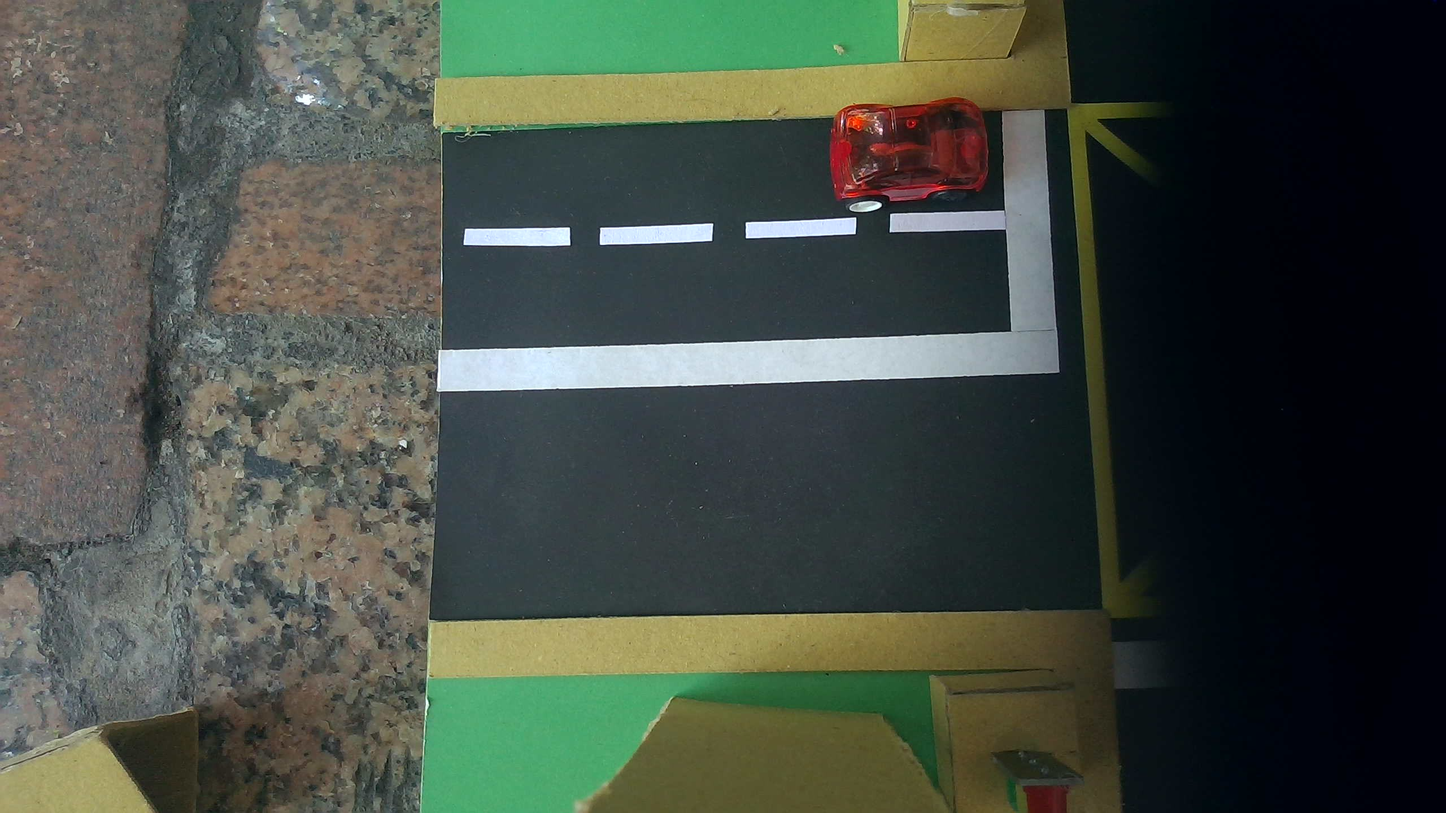Mobil merah: (829, 98, 989, 213)
